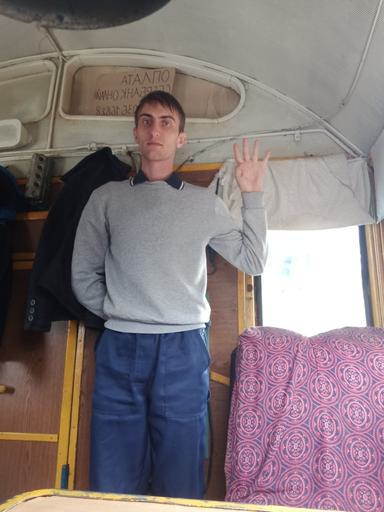four: (232, 137, 272, 195)
